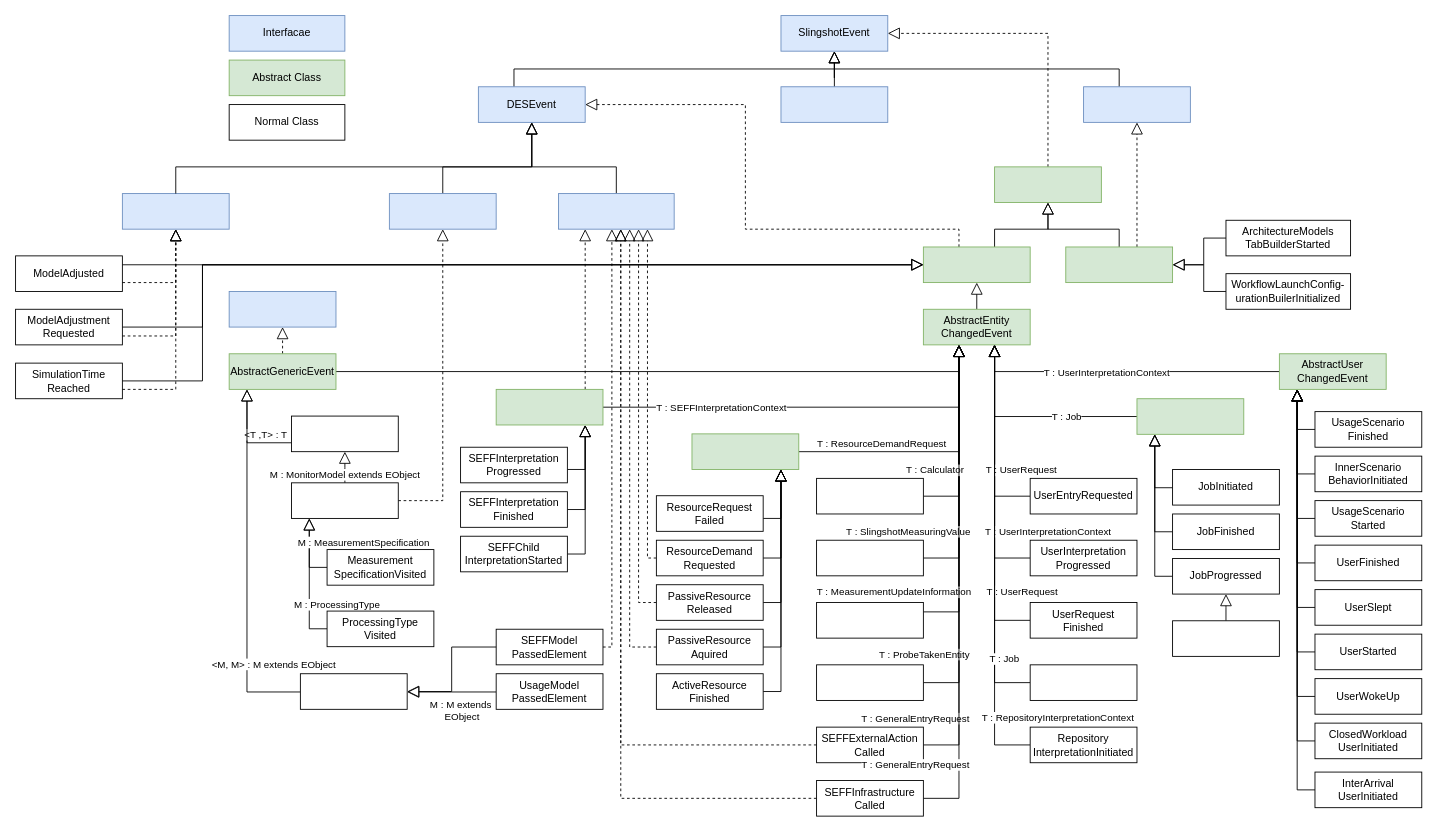
Image size: 1437x832. Some labels were removed from this diagram. Each missing label, with the centre of its shape:
AbstractEvent: pixel 1047 184
AbstractJobEvent: pixel 1190 416
AbstractResource RequestedEvent: pixel 745 451
AbstractSEFF InterpretationEvent: pixel 549 406
AbstractSimulation Event: pixel 976 264
AbstractSystemEvent: pixel 1119 264
CalculatorRegistered: pixel 869 495
JobScheduled: pixel 1083 682
MeasurementMade: pixel 869 557
MeasurementUpdated: pixel 869 620
ModelPassedElement: pixel 353 691
ModelVisited: pixel 344 433
MonitoringEvent: pixel 442 211
MonitorModelVisited: pixel 344 500
OSGIEvent: pixel 834 104
ProbeTaken: pixel 869 682
ProcessorSharing JobProgressed: pixel 1225 638
ReifiedEvent: pixel 282 309
SEFFInterpreted: pixel 616 211
SpdBasedEvent: pixel 175 211
SystemEvent: pixel 1136 104
